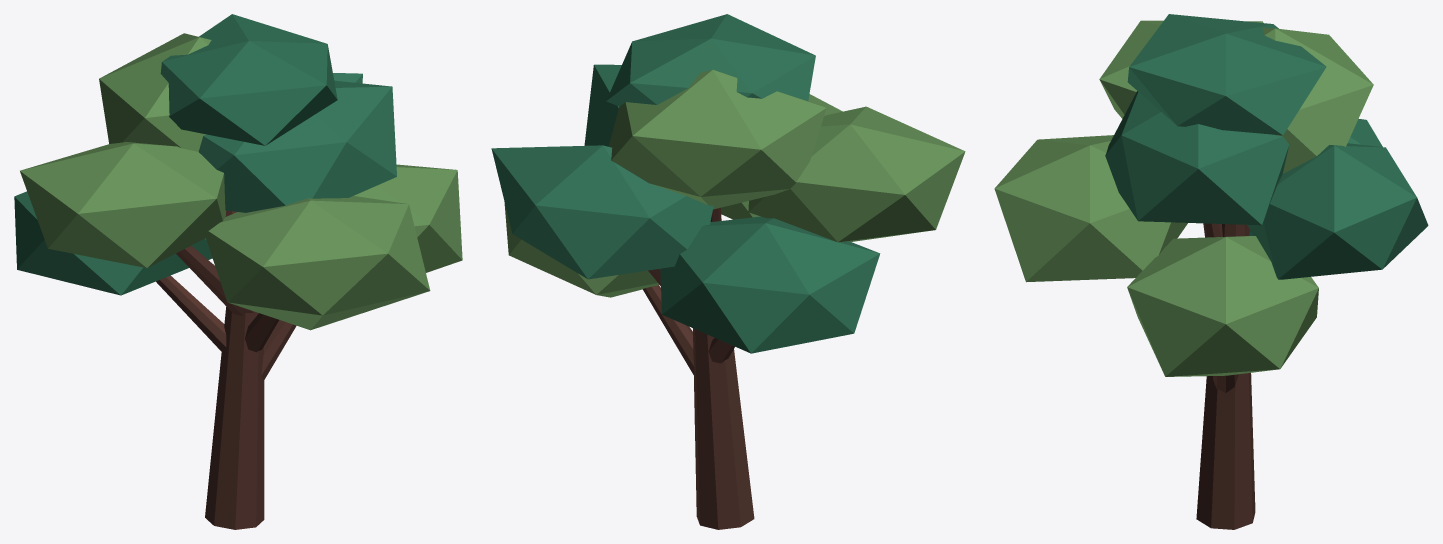
File: cloud_pine.glb
3 views of the same model, side by side, from view 1: azimuth 30°, elevation 25°; view 2: azimuth 150°, elevation 25°; view 3: azimuth 270°, elevation 25° (orthographic). The views are drawn at different scales.
Visible parts, largest first — view 1: cloud_pine; view 2: cloud_pine; view 3: cloud_pine.
Part boxes in pixels (x1,y1,x2,y2): cloud_pine: (14,14,462,529); cloud_pine: (491,14,965,529); cloud_pine: (994,14,1428,529).
Bounding box in the file's own units: 5.89 × 6.35 × 5.09.
